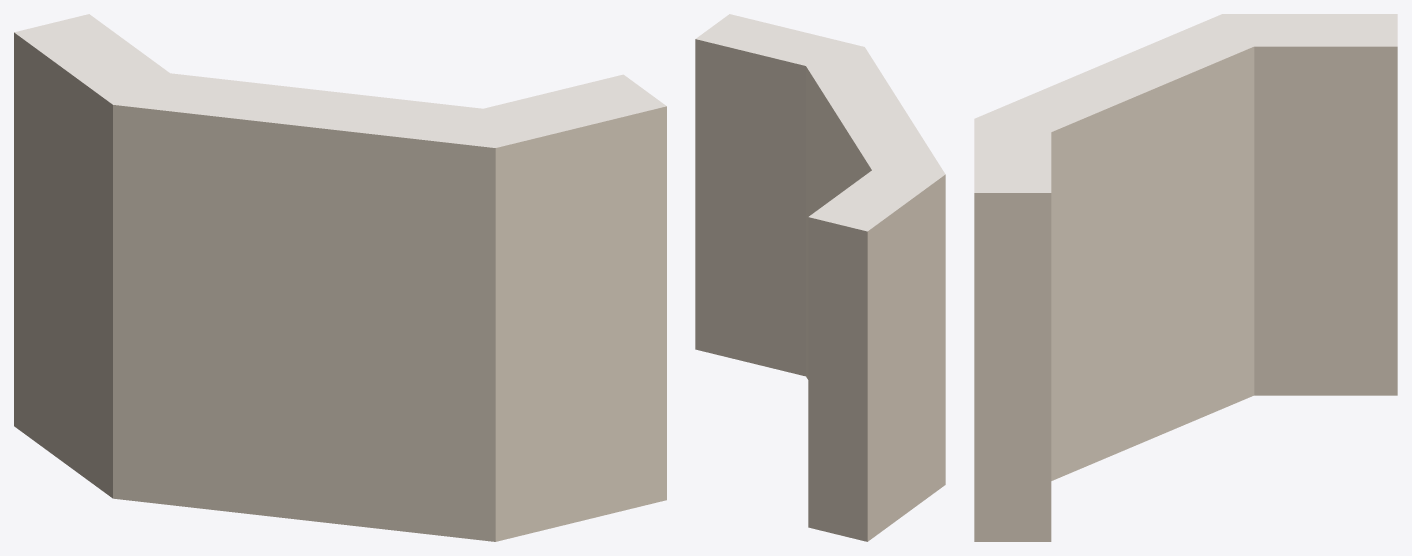
Rendered from Wall_Curved_Small_Middle.glb.
3 renders of one model, left to right at view 1: azimuth 30°, elevation 25°; view 2: azimuth 150°, elevation 25°; view 3: azimuth 270°, elevation 25°, orthographic. The views are drawn at different scales.
Parts seen in each view (by area): view 1: Wall_Curved_Small_Middle; view 2: Wall_Curved_Small_Middle; view 3: Wall_Curved_Small_Middle.
Boxes of the visible parts, x1=… form: Wall_Curved_Small_Middle: x1=14, y1=14, x2=666, y2=541; Wall_Curved_Small_Middle: x1=695, y1=14, x2=945, y2=541; Wall_Curved_Small_Middle: x1=974, y1=14, x2=1397, y2=541.
Size of the model in its own units: 1.1 by 1 by 1.1.
